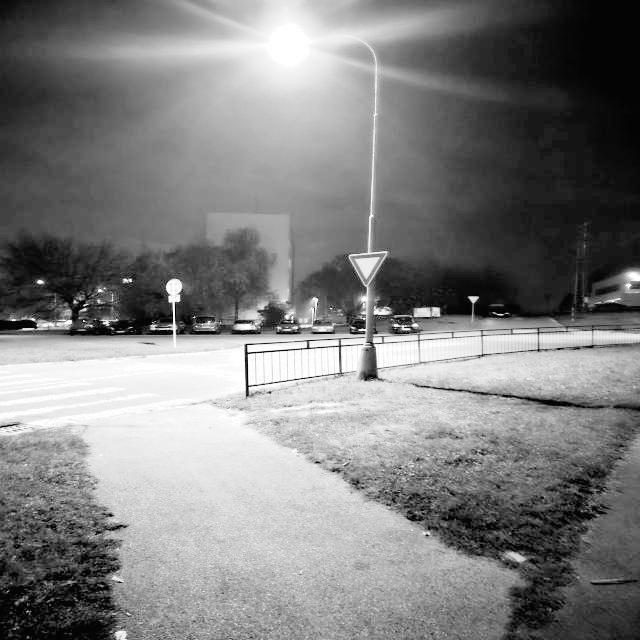Light: (273, 26, 383, 380)
